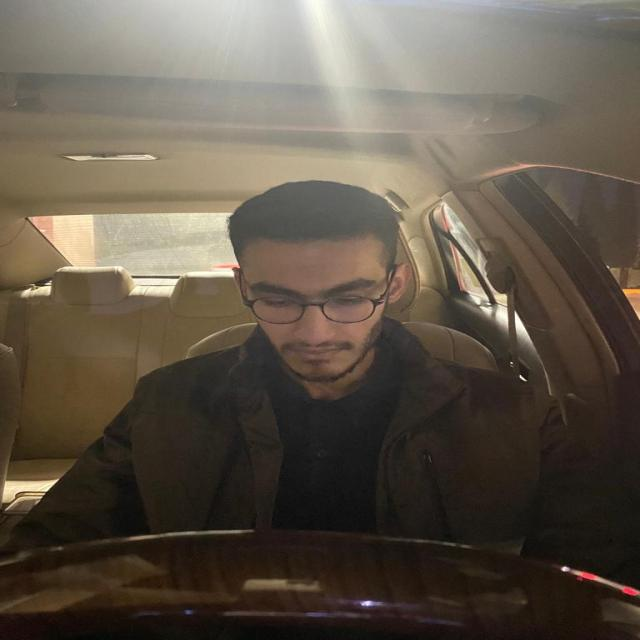drowsy: (221, 196, 410, 377)
